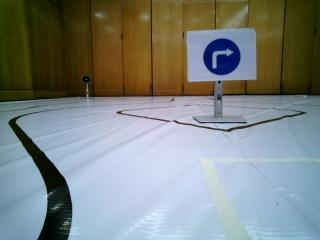right: (182, 30, 258, 80)
